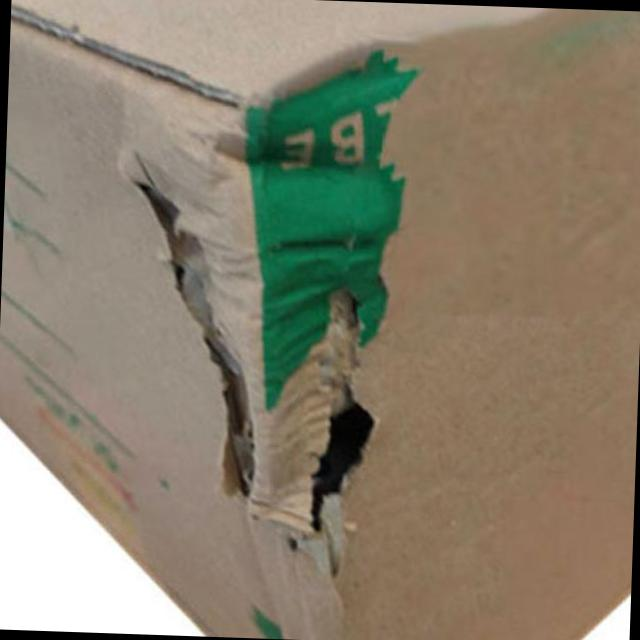box: (200, 121, 584, 620)
